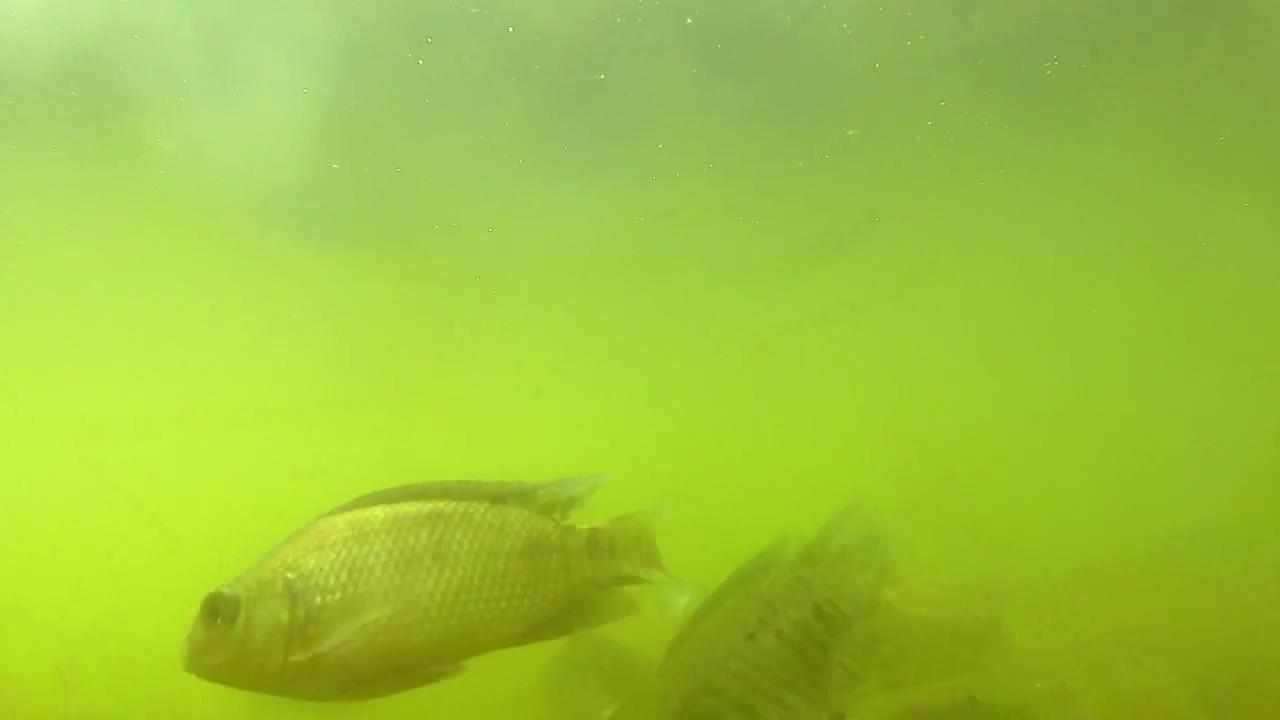Tilapia: (189, 472, 664, 706)
